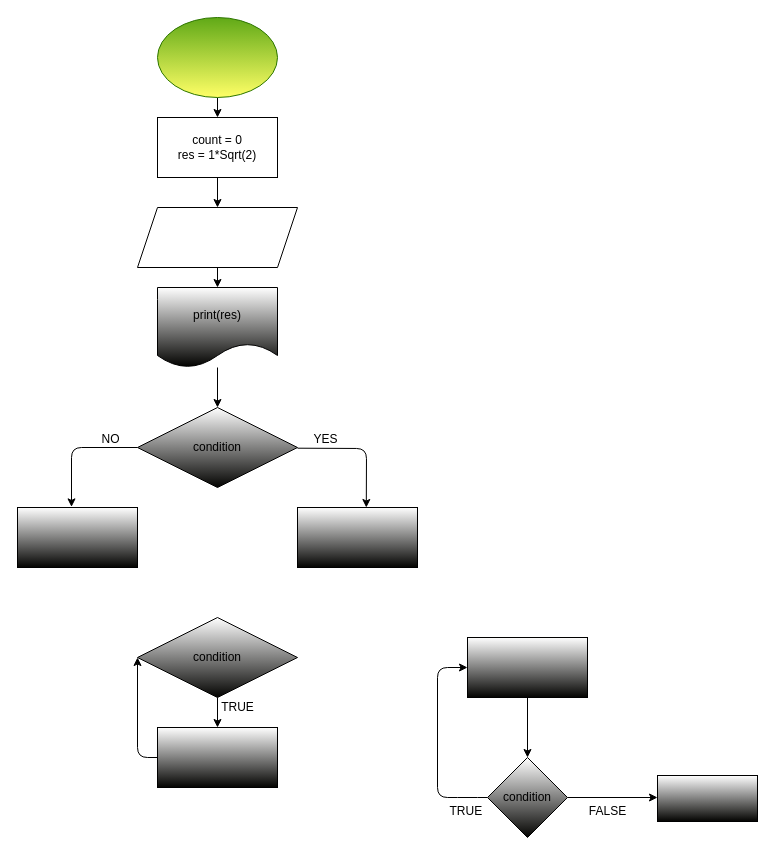
The diagram is 775 pixels wide and 855 high, and some of its shapes have lost their labels. The shapes that lost their labels are listed below. From the top down, each one's centre as x and y in pixels, then its label:
At (x=217, y=57): "Start End".
At (x=217, y=237): "Ввод count".
